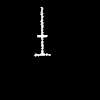double_crochet: (34, 7, 49, 55)
